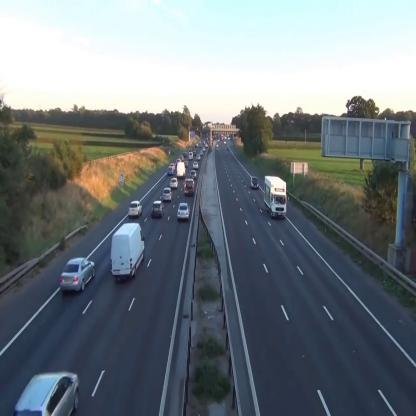car: (13, 371, 78, 416), (60, 258, 95, 292), (129, 200, 142, 218), (177, 203, 190, 221), (152, 200, 164, 218), (163, 188, 173, 202), (184, 180, 194, 194), (250, 176, 259, 189), (170, 178, 178, 189), (168, 166, 174, 174), (192, 161, 198, 169), (189, 151, 193, 160), (196, 154, 200, 160)
lorry: (110, 223, 145, 281), (264, 175, 286, 219), (177, 162, 185, 178), (190, 170, 197, 178)
